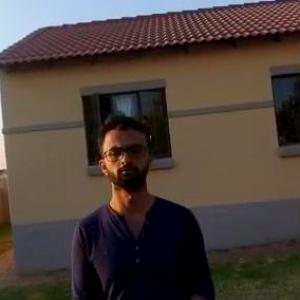follow: (66, 107, 222, 299)
